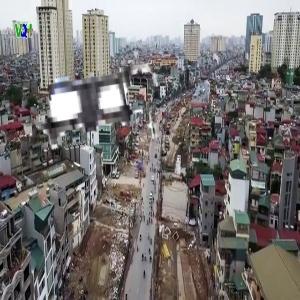drone: (12, 35, 167, 190)
